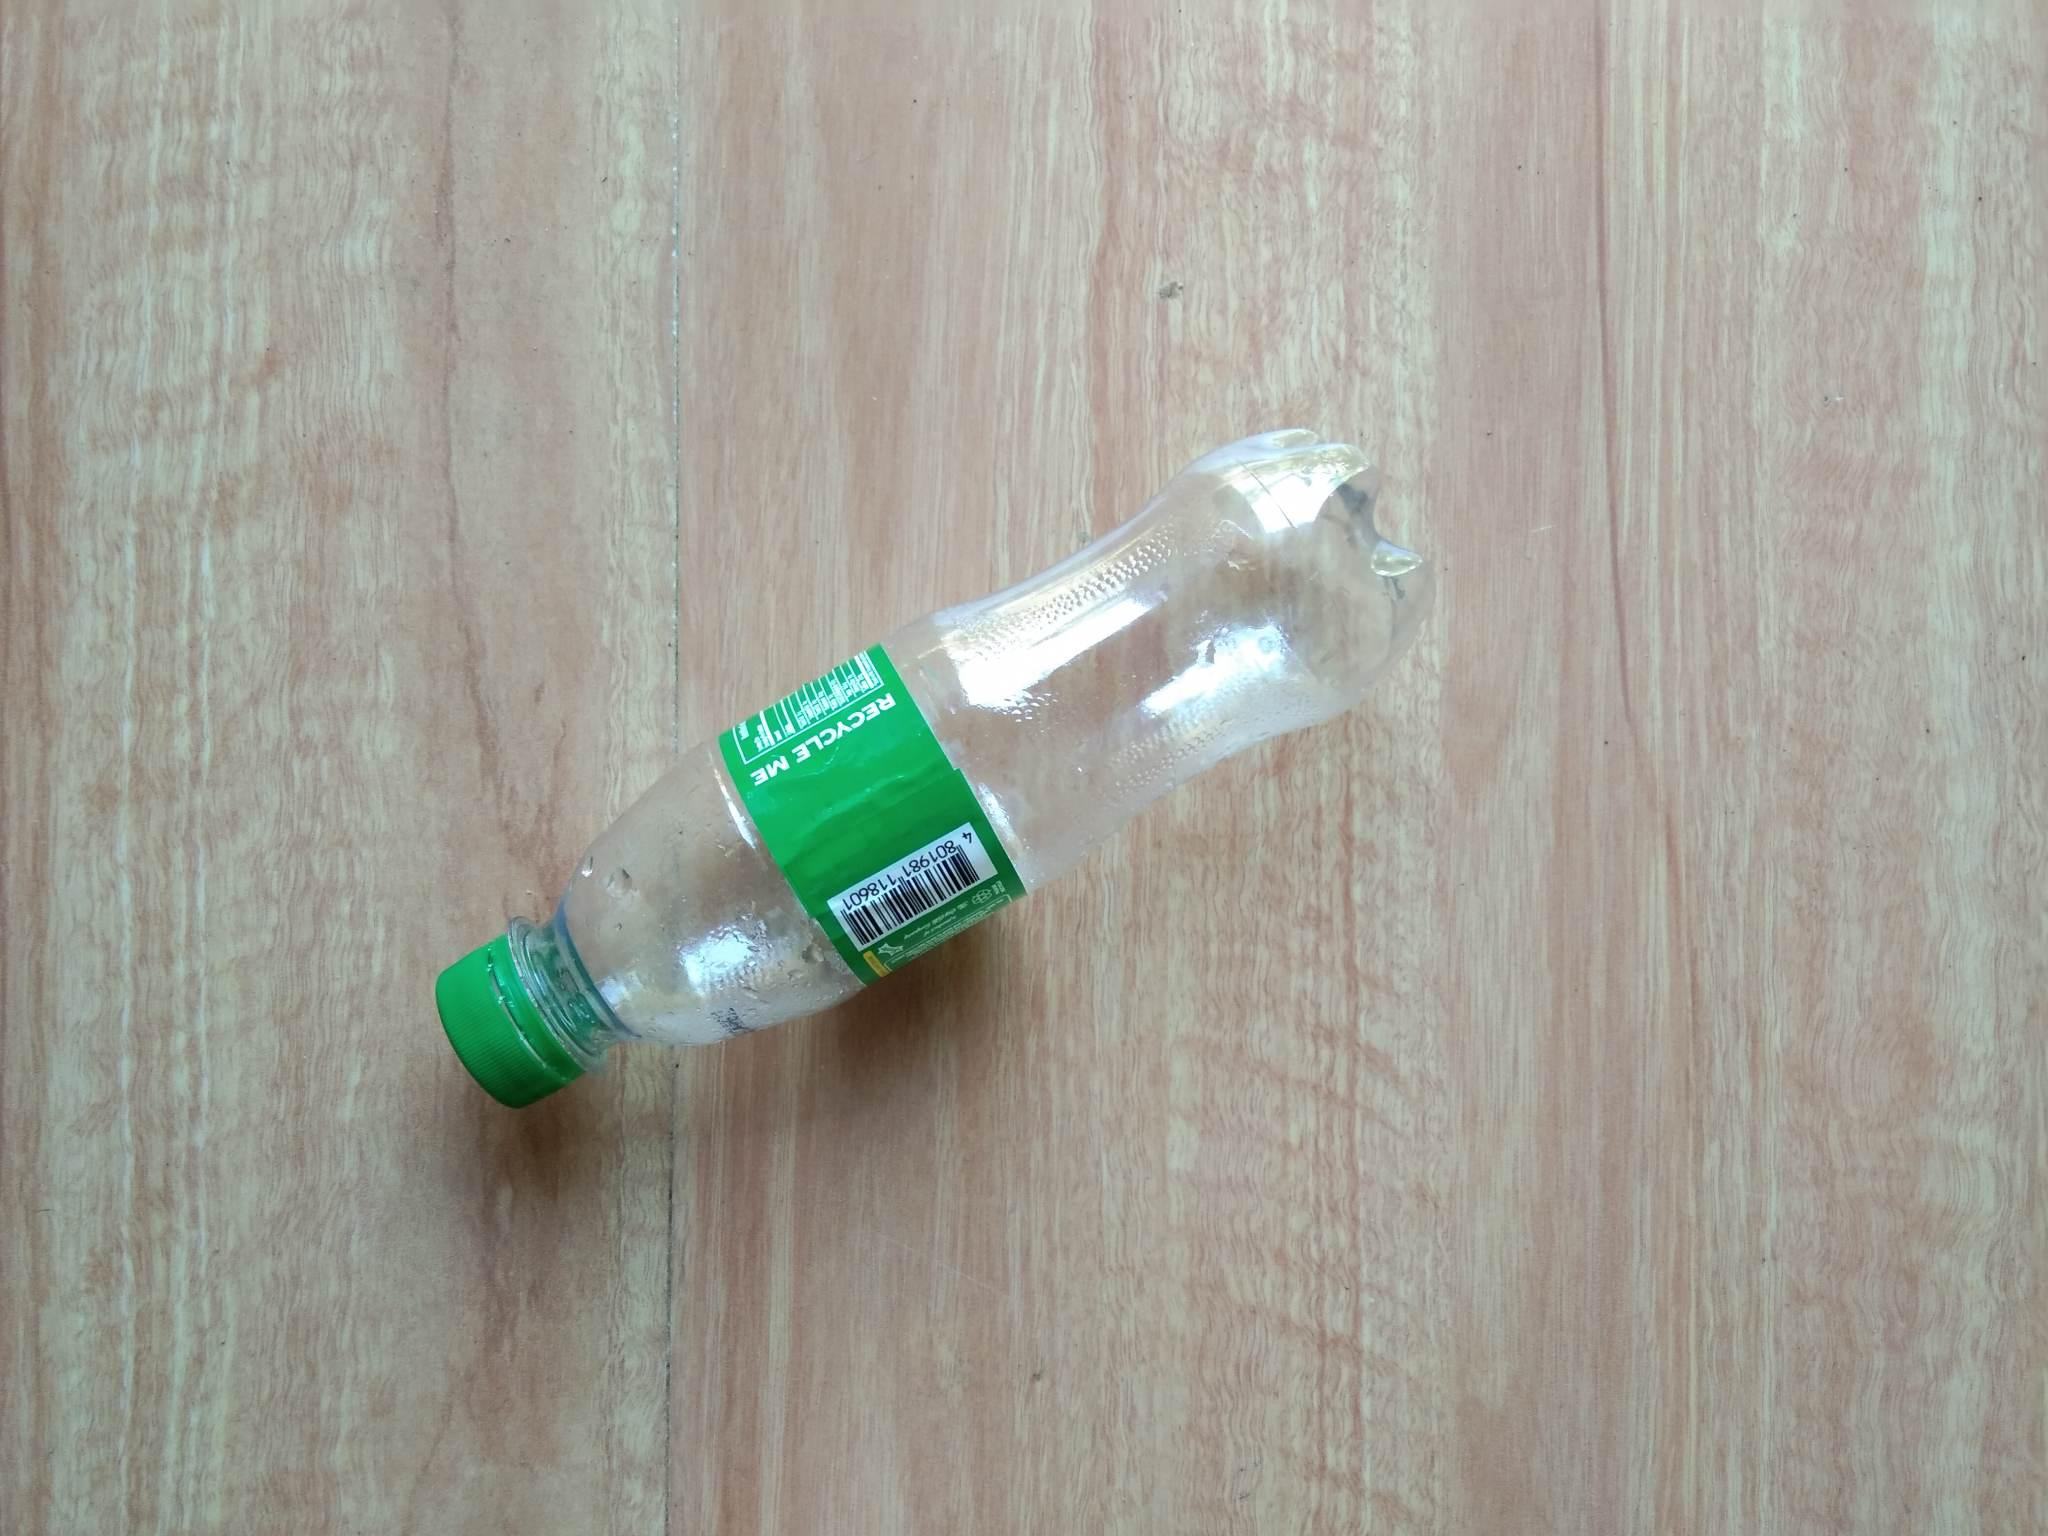plastic: (352, 371, 1600, 1257)
